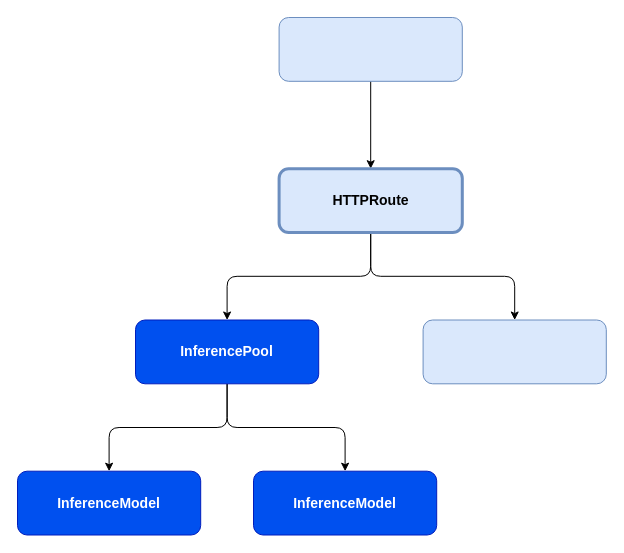
Image size: 624x553. Some labels were removed from this diagram. The shapes that lost their labels are listed below. From the top down, each one's box as (x1, y1, x2, y2) in pixels, then its label:
(278, 16, 462, 81): Gateway
(422, 319, 606, 384): Service
